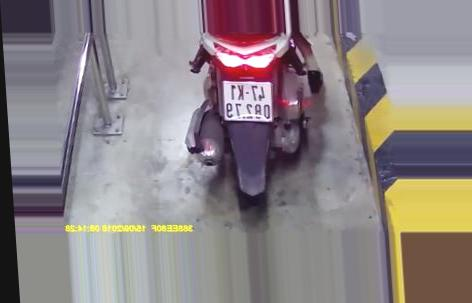License_Plate: (215, 78, 279, 124)
